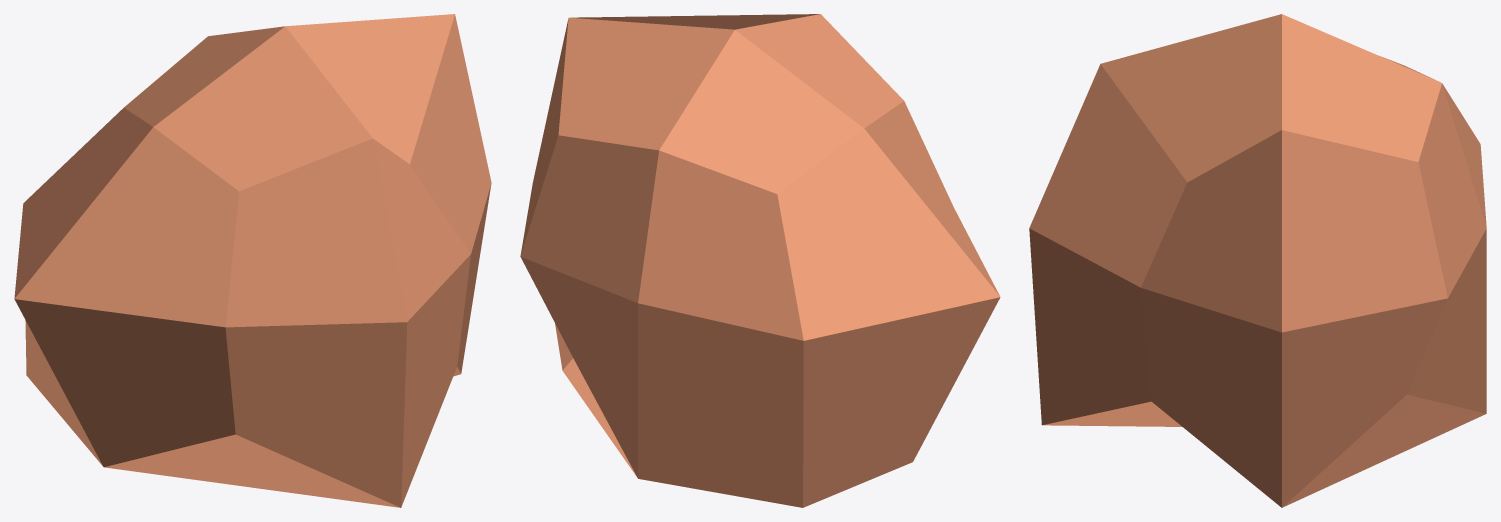
The model's file is Rock1.fbx.
3 renders of one model, left to right at view 1: azimuth 30°, elevation 25°; view 2: azimuth 150°, elevation 25°; view 3: azimuth 270°, elevation 25°, orthographic. The views are drawn at different scales.
Parts seen in each view (by area): view 1: Rock.001; view 2: Rock.001; view 3: Rock.001.
Boxes of the visible parts, x1=… form: Rock.001: x1=14, y1=14, x2=491, y2=507; Rock.001: x1=520, y1=14, x2=1000, y2=507; Rock.001: x1=1029, y1=14, x2=1486, y2=507.
Bounding box in the file's own units: 96.86 × 77.52 × 77.59.
